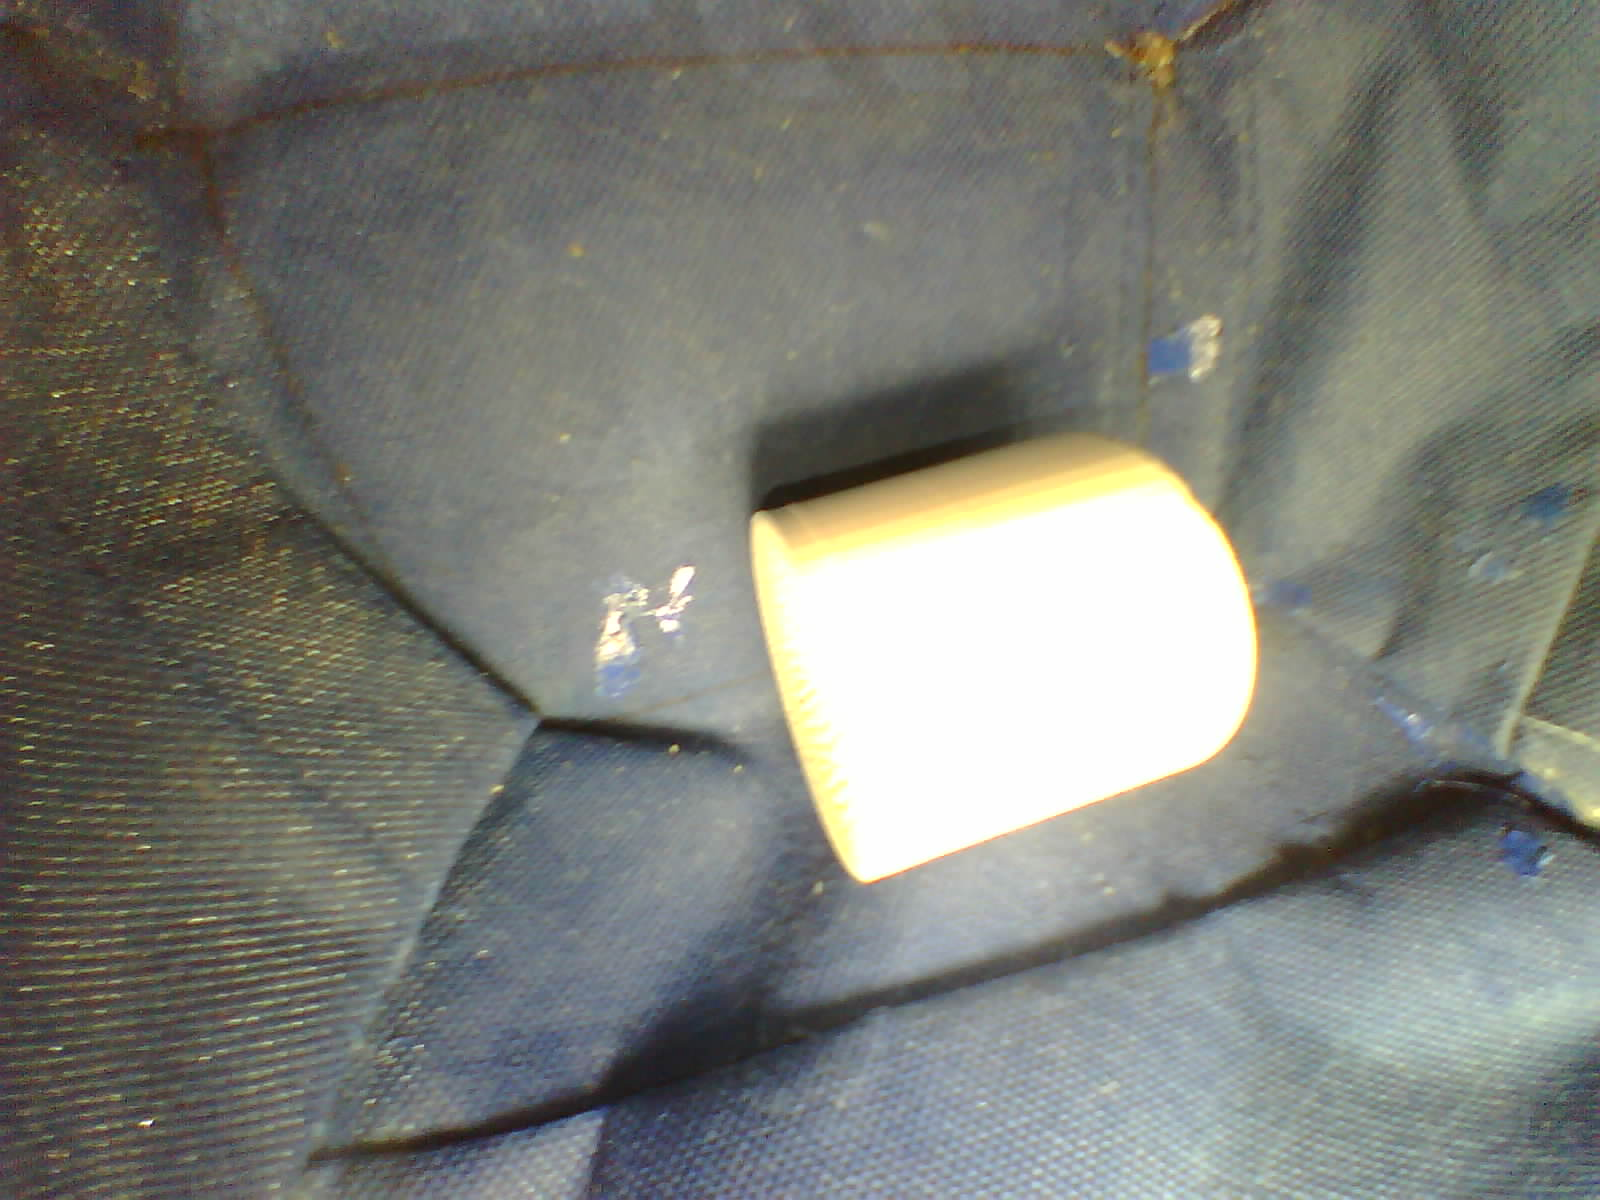cylinder-hard: (727, 398, 1271, 913)
